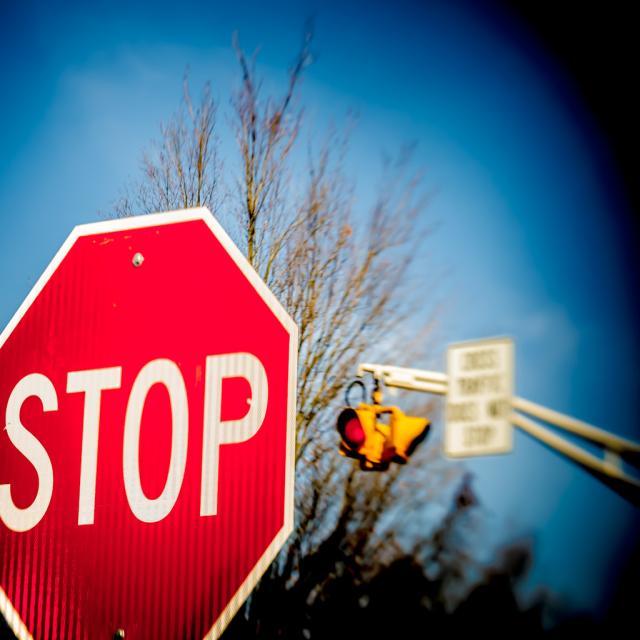Stop-sign: (0, 205, 298, 640)
